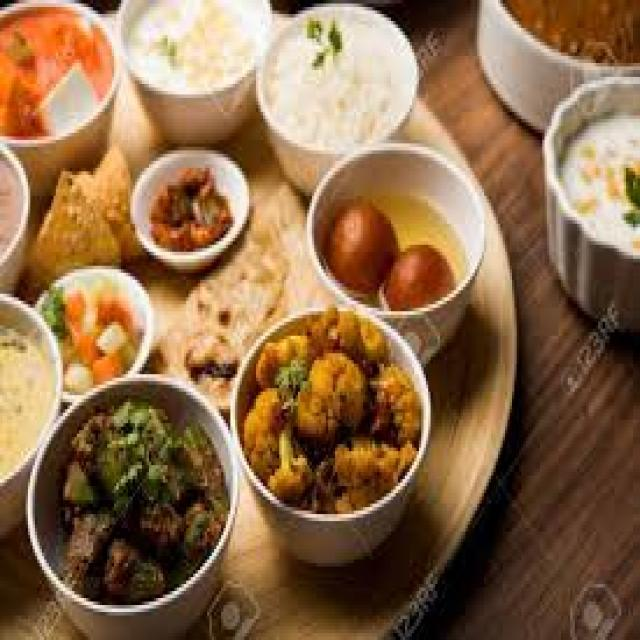curd: (257, 1, 414, 167)
dal: (3, 320, 56, 474)
papad: (19, 134, 125, 309)
raita: (548, 88, 639, 261)
rice: (120, 1, 264, 112)
roti: (162, 223, 277, 397)
sambar-rasam: (0, 0, 114, 160)
sweet: (311, 154, 483, 318), (0, 0, 114, 154), (52, 266, 152, 400), (134, 151, 246, 265), (1, 144, 32, 277)
veg-fry: (36, 384, 234, 606), (487, 0, 635, 90)
